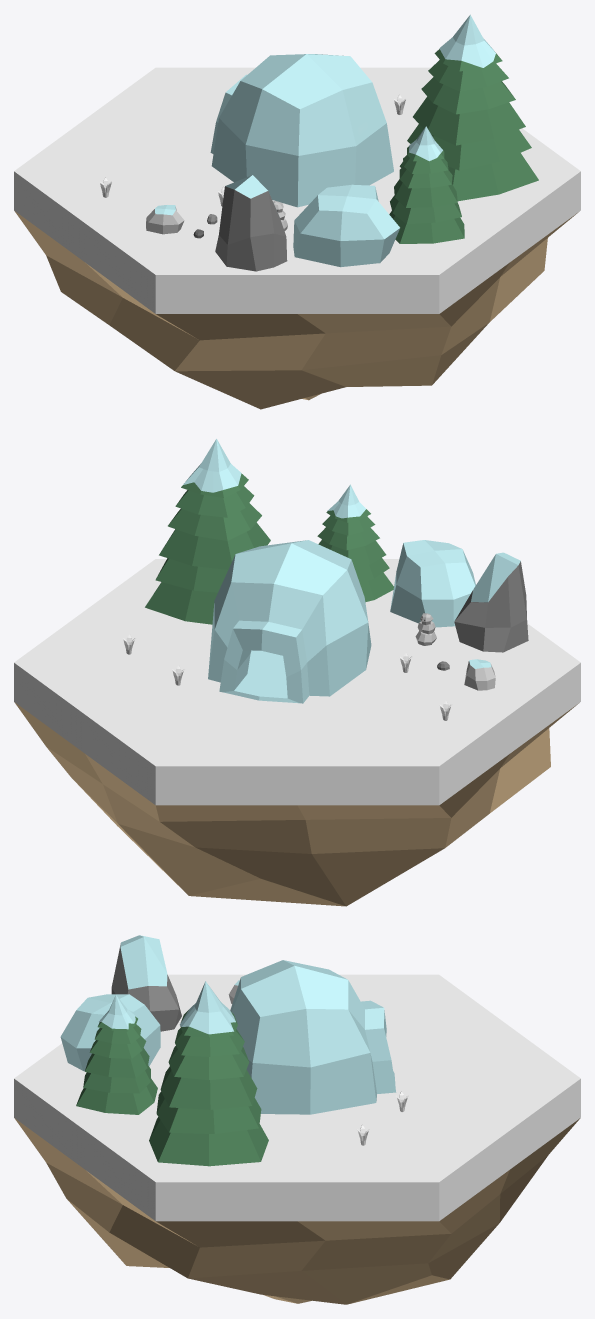
The model's file is escenario_nieve.fbx.
3 renders of one model, top to bottom at view 1: azimuth 30°, elevation 25°; view 2: azimuth 150°, elevation 25°; view 3: azimuth 270°, elevation 25°, orthographic.
Visible parts, largest first — view 1: NIEVE; view 2: NIEVE; view 3: NIEVE.
Boxes of the visible parts, box(x1,y1,x2,y2) form: NIEVE: box(14, 14, 580, 409); NIEVE: box(14, 439, 580, 906); NIEVE: box(14, 935, 580, 1304).
Size of the model in its own units: 3221 by 2790 by 2384.
